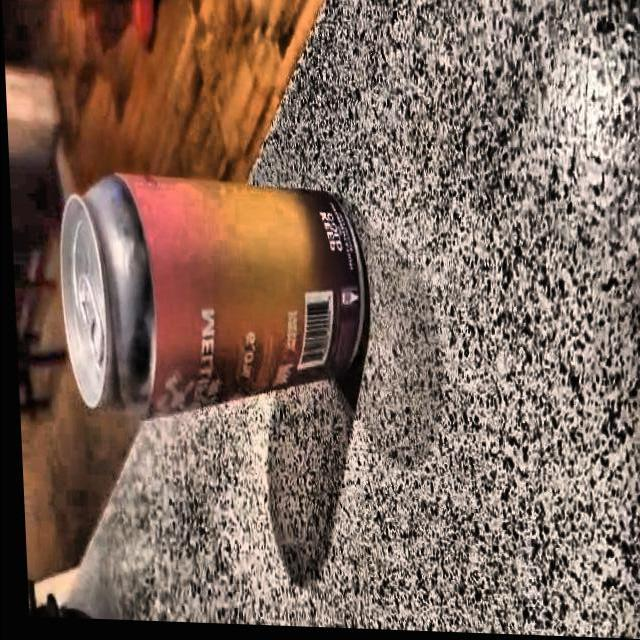litter: (41, 162, 372, 444)
